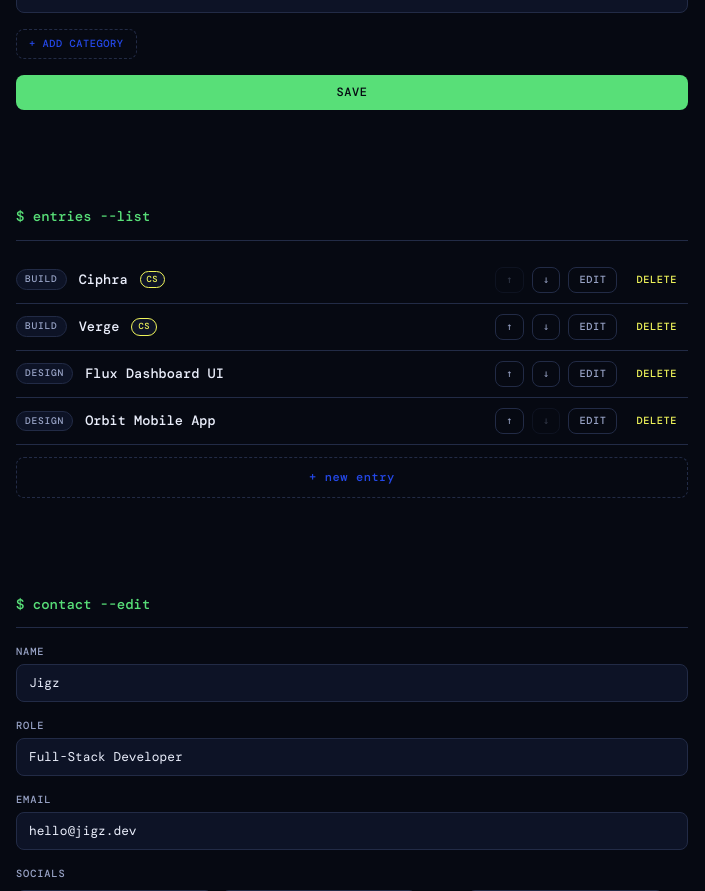
ConsolePage › can open new entry form with images editor for design kind
(page scrolled)
Click the button "+ new entry".
click(352, 477)  # box [16,457,688,498]
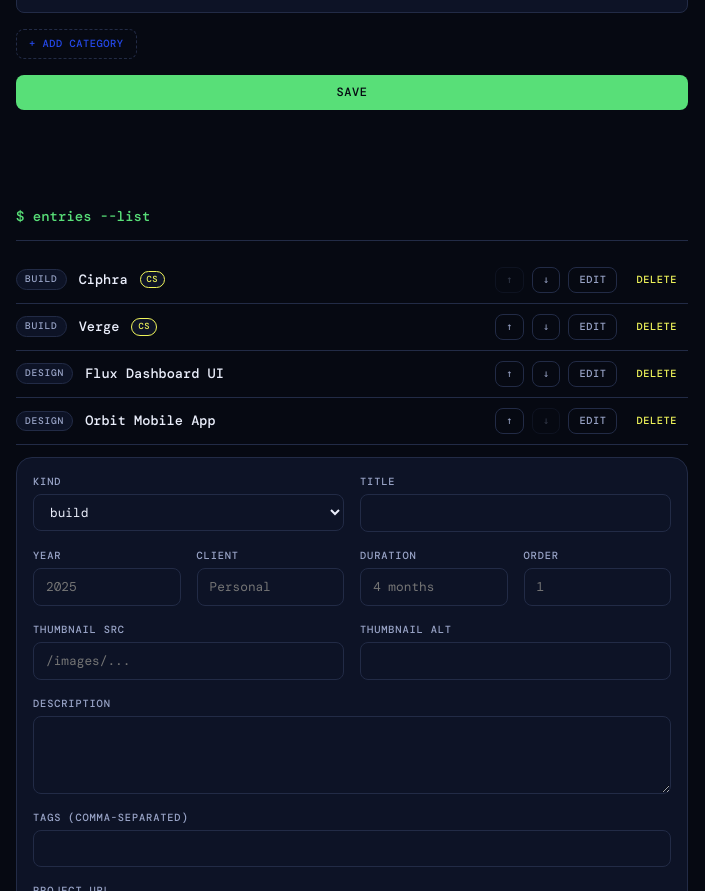
Select "design" in the dropdown at (188, 513), box [33,494,344,531]
(page scrolled)
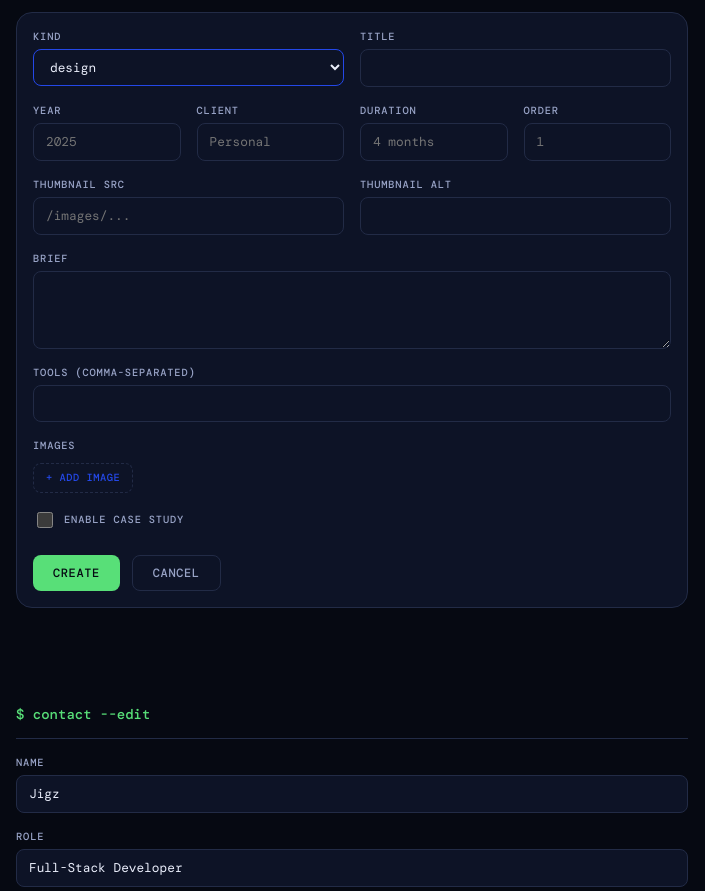
Expected: the button "+ add image" is shown, [33,463,133,493]
